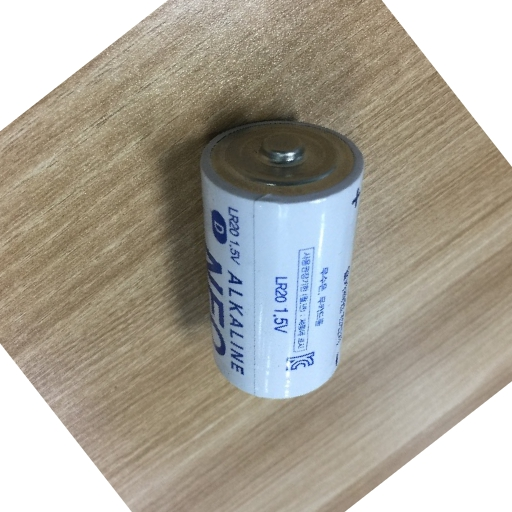Battery_0: (185, 93, 372, 413)
